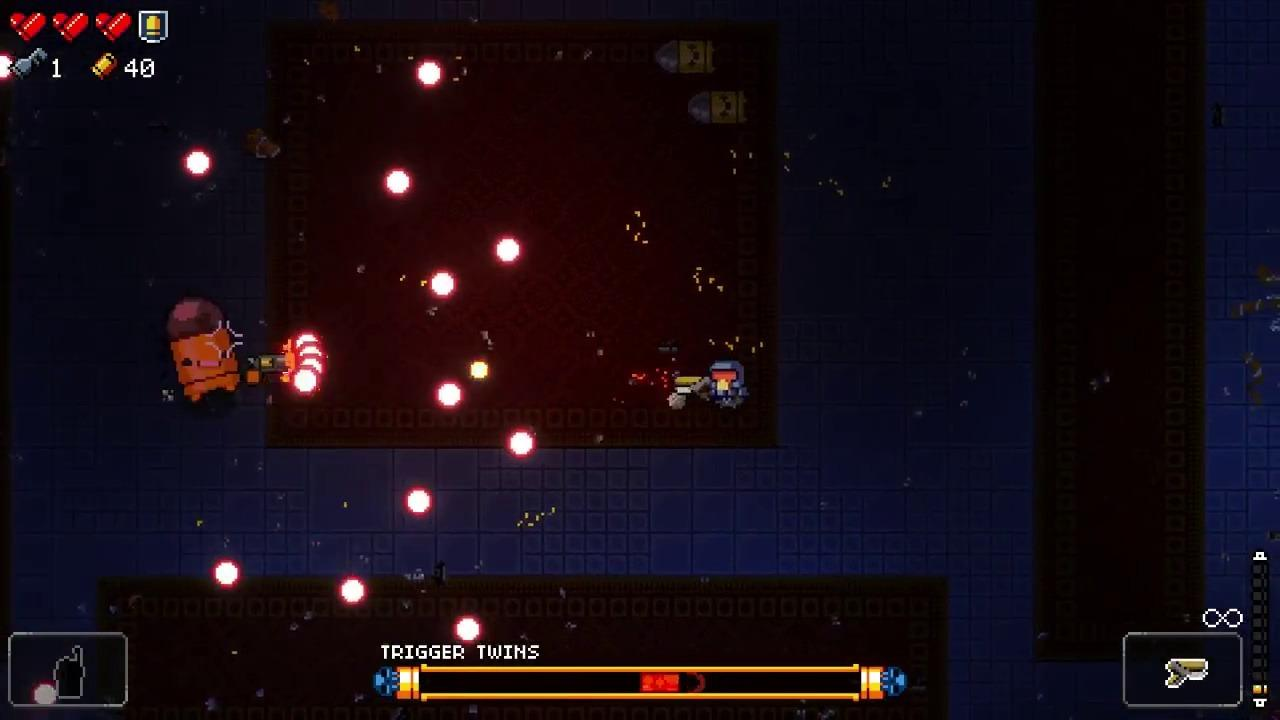boss_smiley: (169, 297, 240, 403)
bullet: (403, 483, 432, 516), (290, 366, 319, 399), (184, 147, 212, 181), (294, 331, 324, 360), (453, 614, 481, 645), (340, 576, 368, 607), (416, 60, 444, 90), (507, 427, 534, 458), (384, 166, 411, 197), (494, 237, 521, 266), (297, 357, 324, 385), (431, 269, 456, 298), (215, 560, 239, 589), (439, 382, 463, 411)
dead_bullet_kin: (686, 87, 749, 123), (651, 38, 713, 74)
player: (707, 360, 748, 413)
